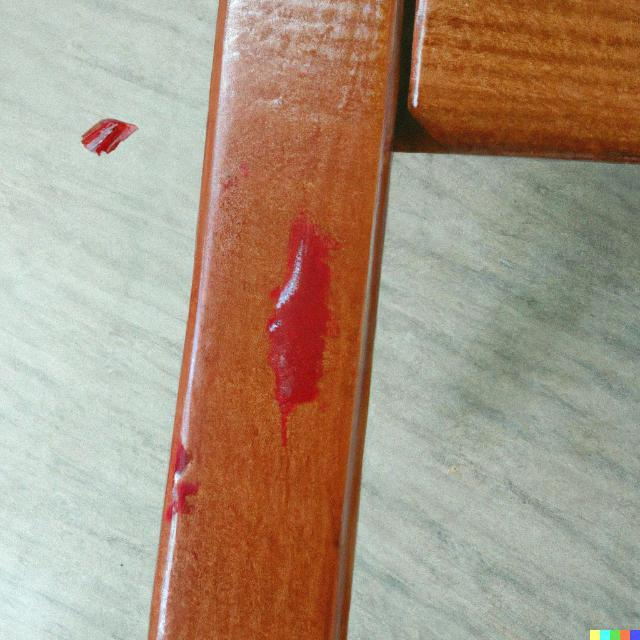blood: (266, 211, 341, 447), (165, 481, 200, 521), (173, 441, 192, 474)
